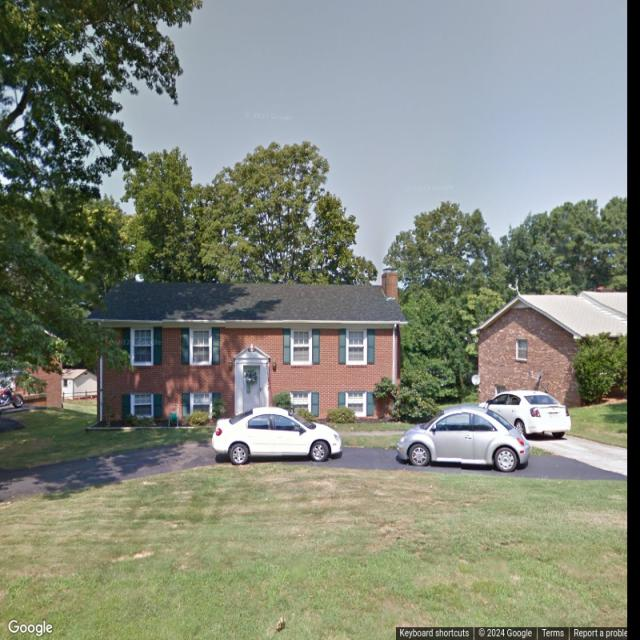House: (84, 269, 409, 429), (469, 291, 627, 407), (0, 325, 63, 408), (62, 369, 97, 399)
